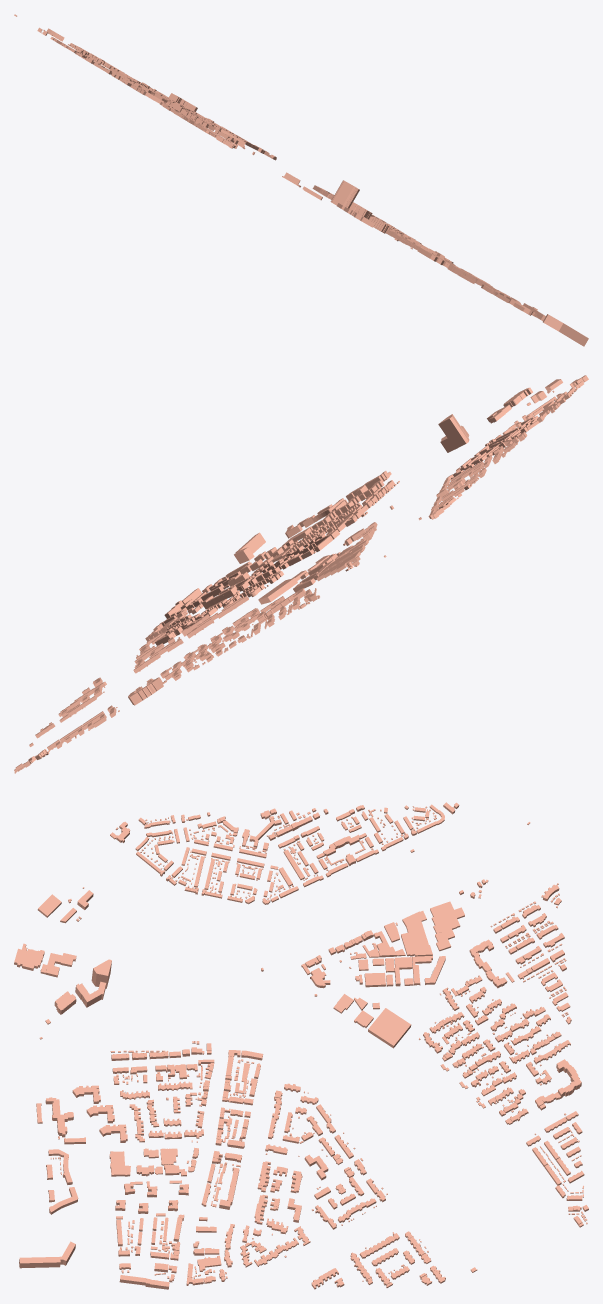
3 views of the same model, one above another, from view 1: azimuth 30°, elevation 25°; view 2: azimuth 150°, elevation 25°; view 3: azimuth 270°, elevation 25° (orthographic). The views are drawn at different scales.
Bounding box in the file's own units: 1010 × 744 × 1280.
